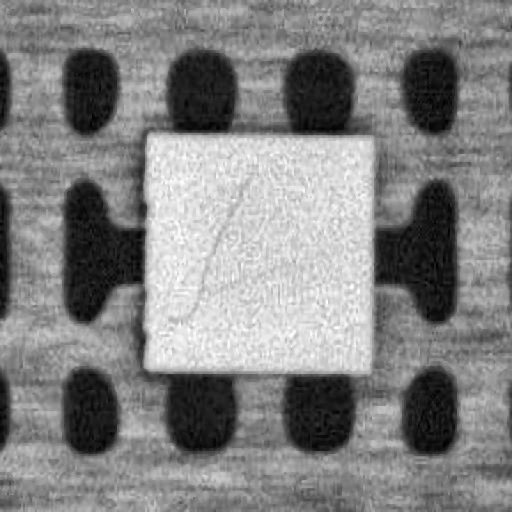DIE_CRACK: (167, 170, 248, 324)
